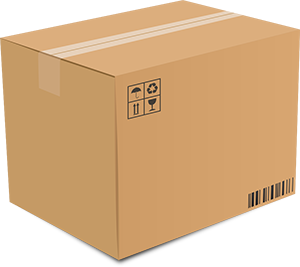stock: (1, 4, 297, 257)
